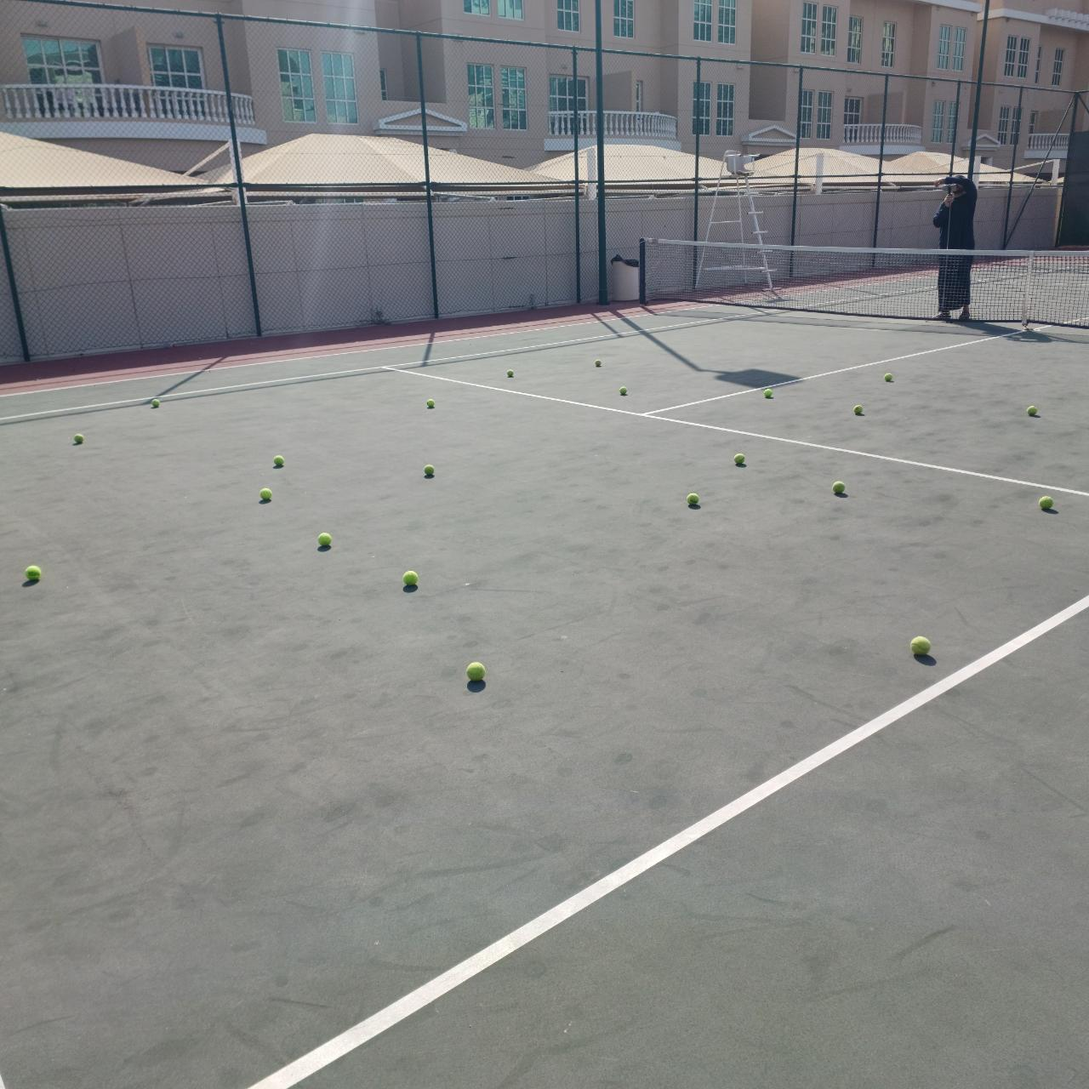tennis-ball: (909, 635, 931, 656), (466, 661, 486, 681), (402, 570, 418, 587), (25, 565, 41, 581), (318, 532, 332, 547), (832, 481, 846, 495), (1039, 496, 1053, 510), (259, 487, 272, 501), (687, 493, 699, 507), (733, 453, 745, 465), (1026, 405, 1038, 416), (274, 455, 285, 467), (424, 464, 435, 475), (74, 433, 84, 443), (854, 404, 863, 415), (764, 388, 773, 398), (151, 398, 160, 407), (884, 373, 893, 382), (619, 386, 627, 395), (427, 399, 435, 408), (594, 359, 602, 367), (507, 369, 514, 377)
